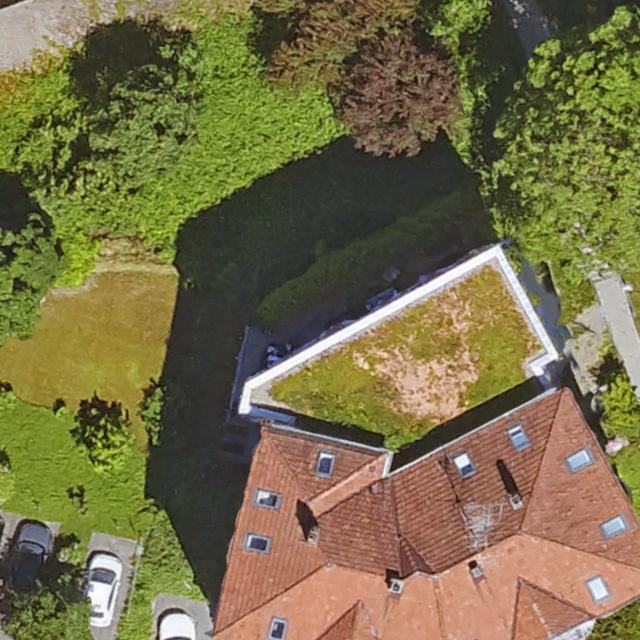tree: (493, 5, 640, 268), (337, 39, 462, 154), (260, 0, 407, 87), (96, 81, 191, 187), (0, 211, 51, 342), (0, 572, 85, 640), (80, 415, 134, 477), (139, 382, 190, 446), (425, 0, 496, 42), (602, 379, 640, 436)
